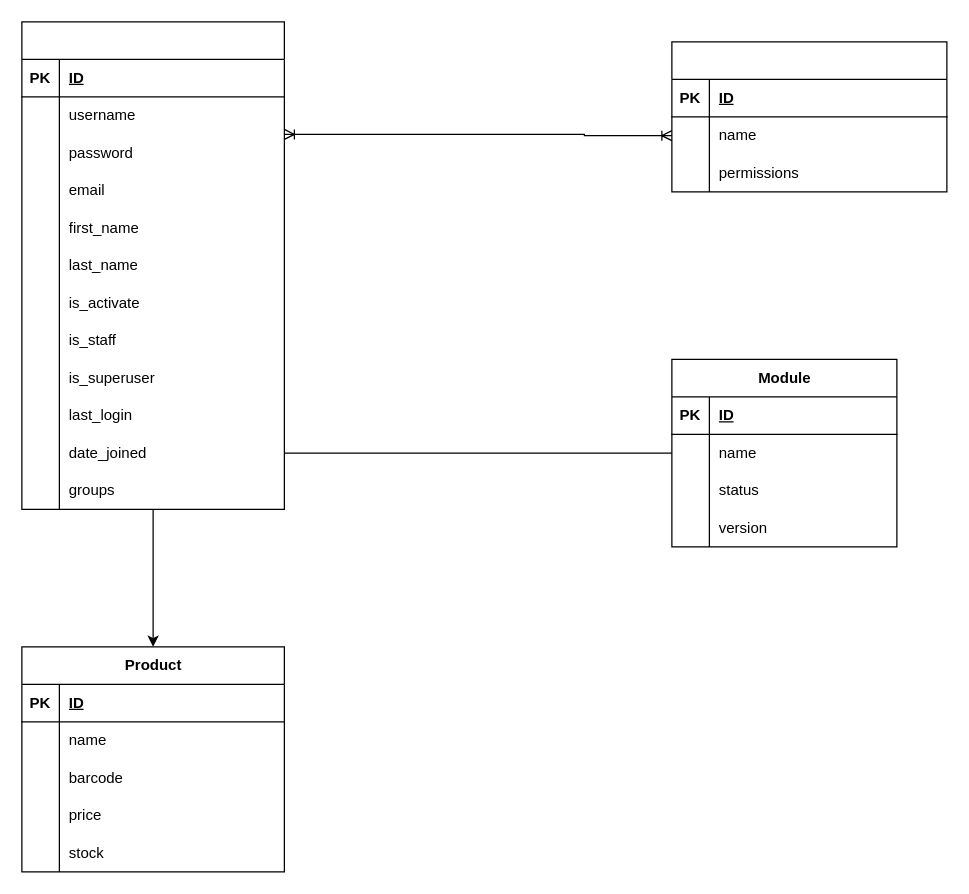
Image size: 969x894. Some labels were removed from this diagram. The box of each missing label's shape, as (x1, y1, x2, y2) in pixels:
Group (default django) django.contrib.auth.models.Group: (671, 41, 947, 192)
User (default django) django.contrib.auth.models.User: (21, 21, 284, 509)
